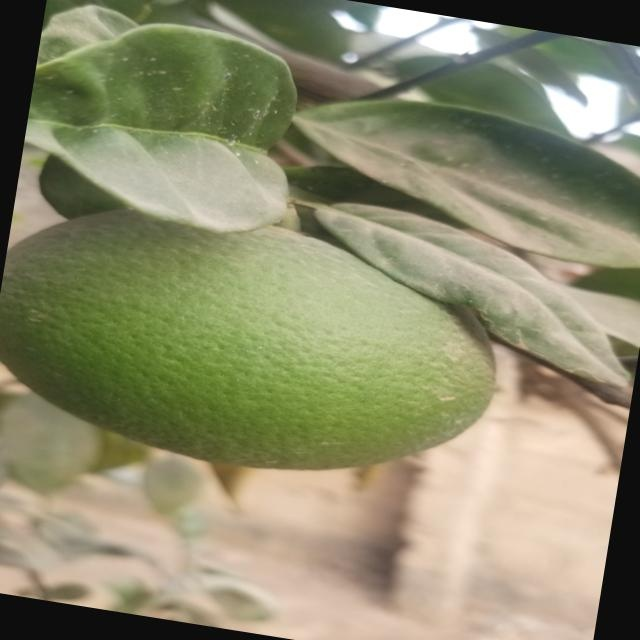agrume: (0, 189, 503, 503)
